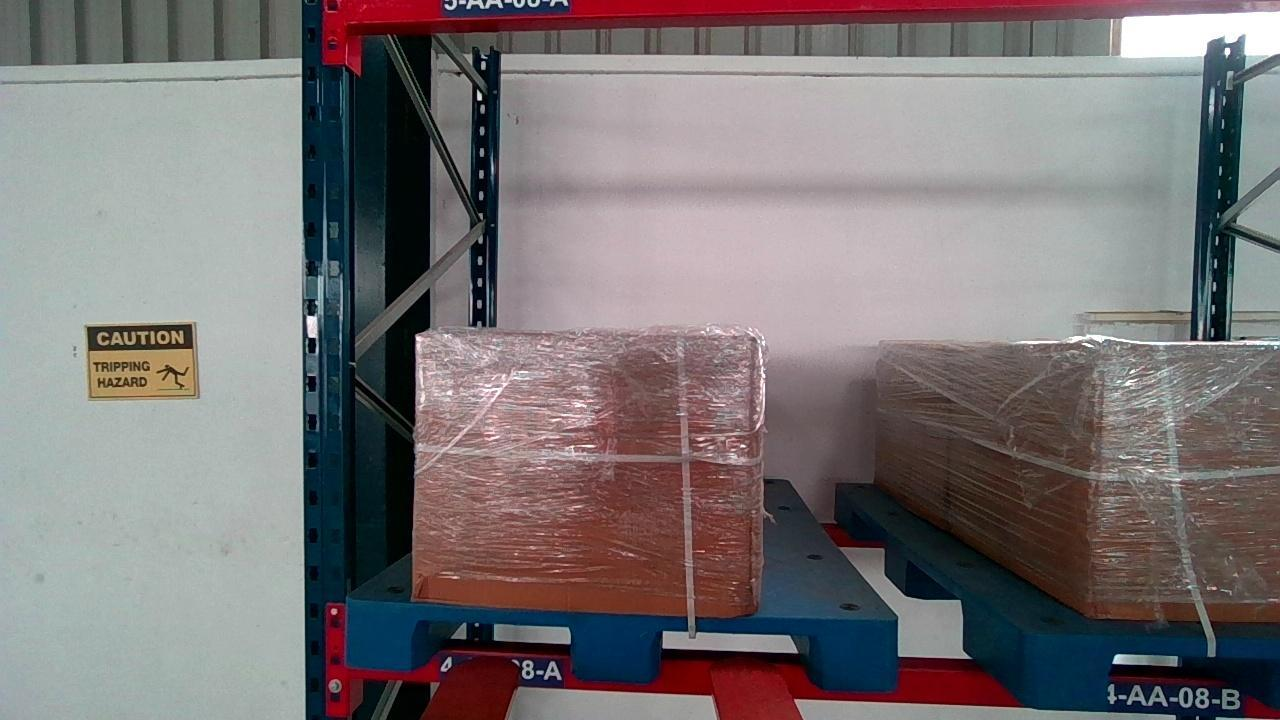h_rack: (337, 639, 1276, 720)
small_pallet: (339, 596, 897, 690)
